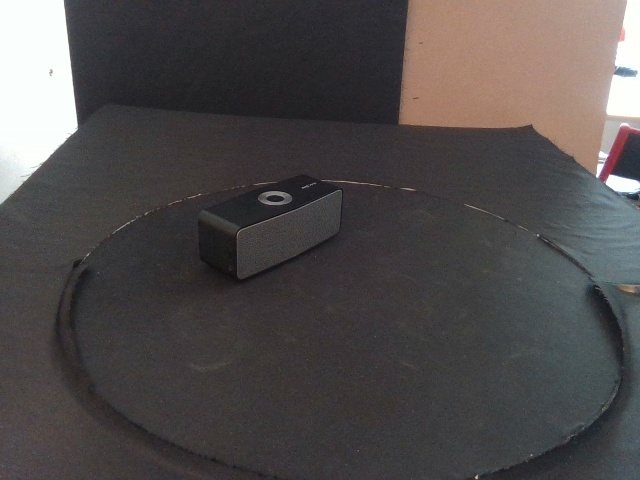speaker: (197, 174, 345, 282)
